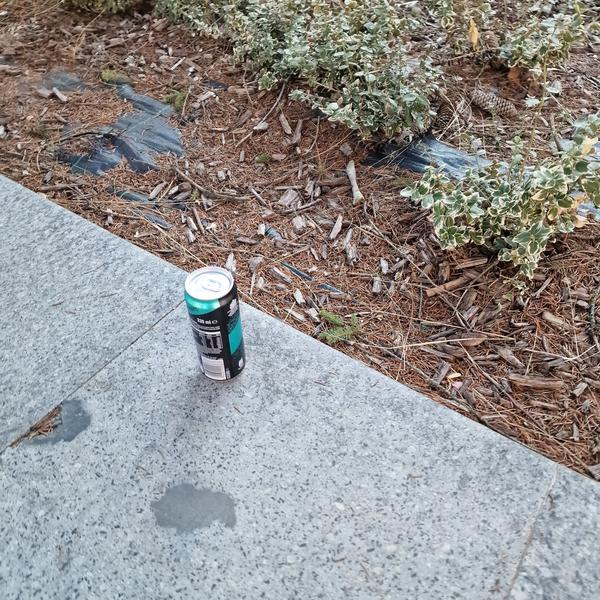can: (178, 260, 258, 387)
